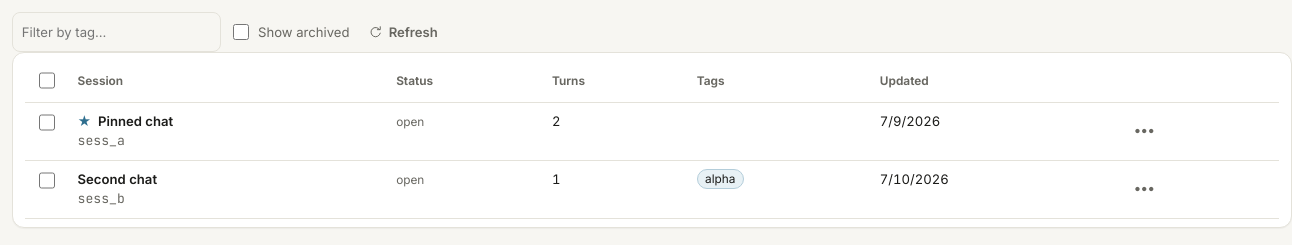
Test: SessionsView organisation › filters the list down to sessions whose tags contain the query
The image size is (1292, 245).
Check: the text "Second chat" is shown, box 78,171 -> 157,187
Check: the text "Pinned chat" is shown, box 94,113 -> 173,129
Type "alpha" into the field named "Filter sessions by tag" at {"x": 116, "y": 32}, box 12,12 -> 221,52
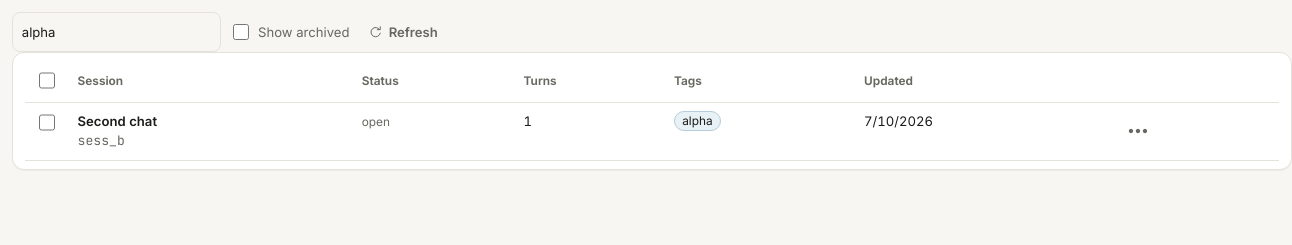
Check: the text "Second chat" is shown, box 78,113 -> 157,129
Check: the text "Pinned chat" is gone
